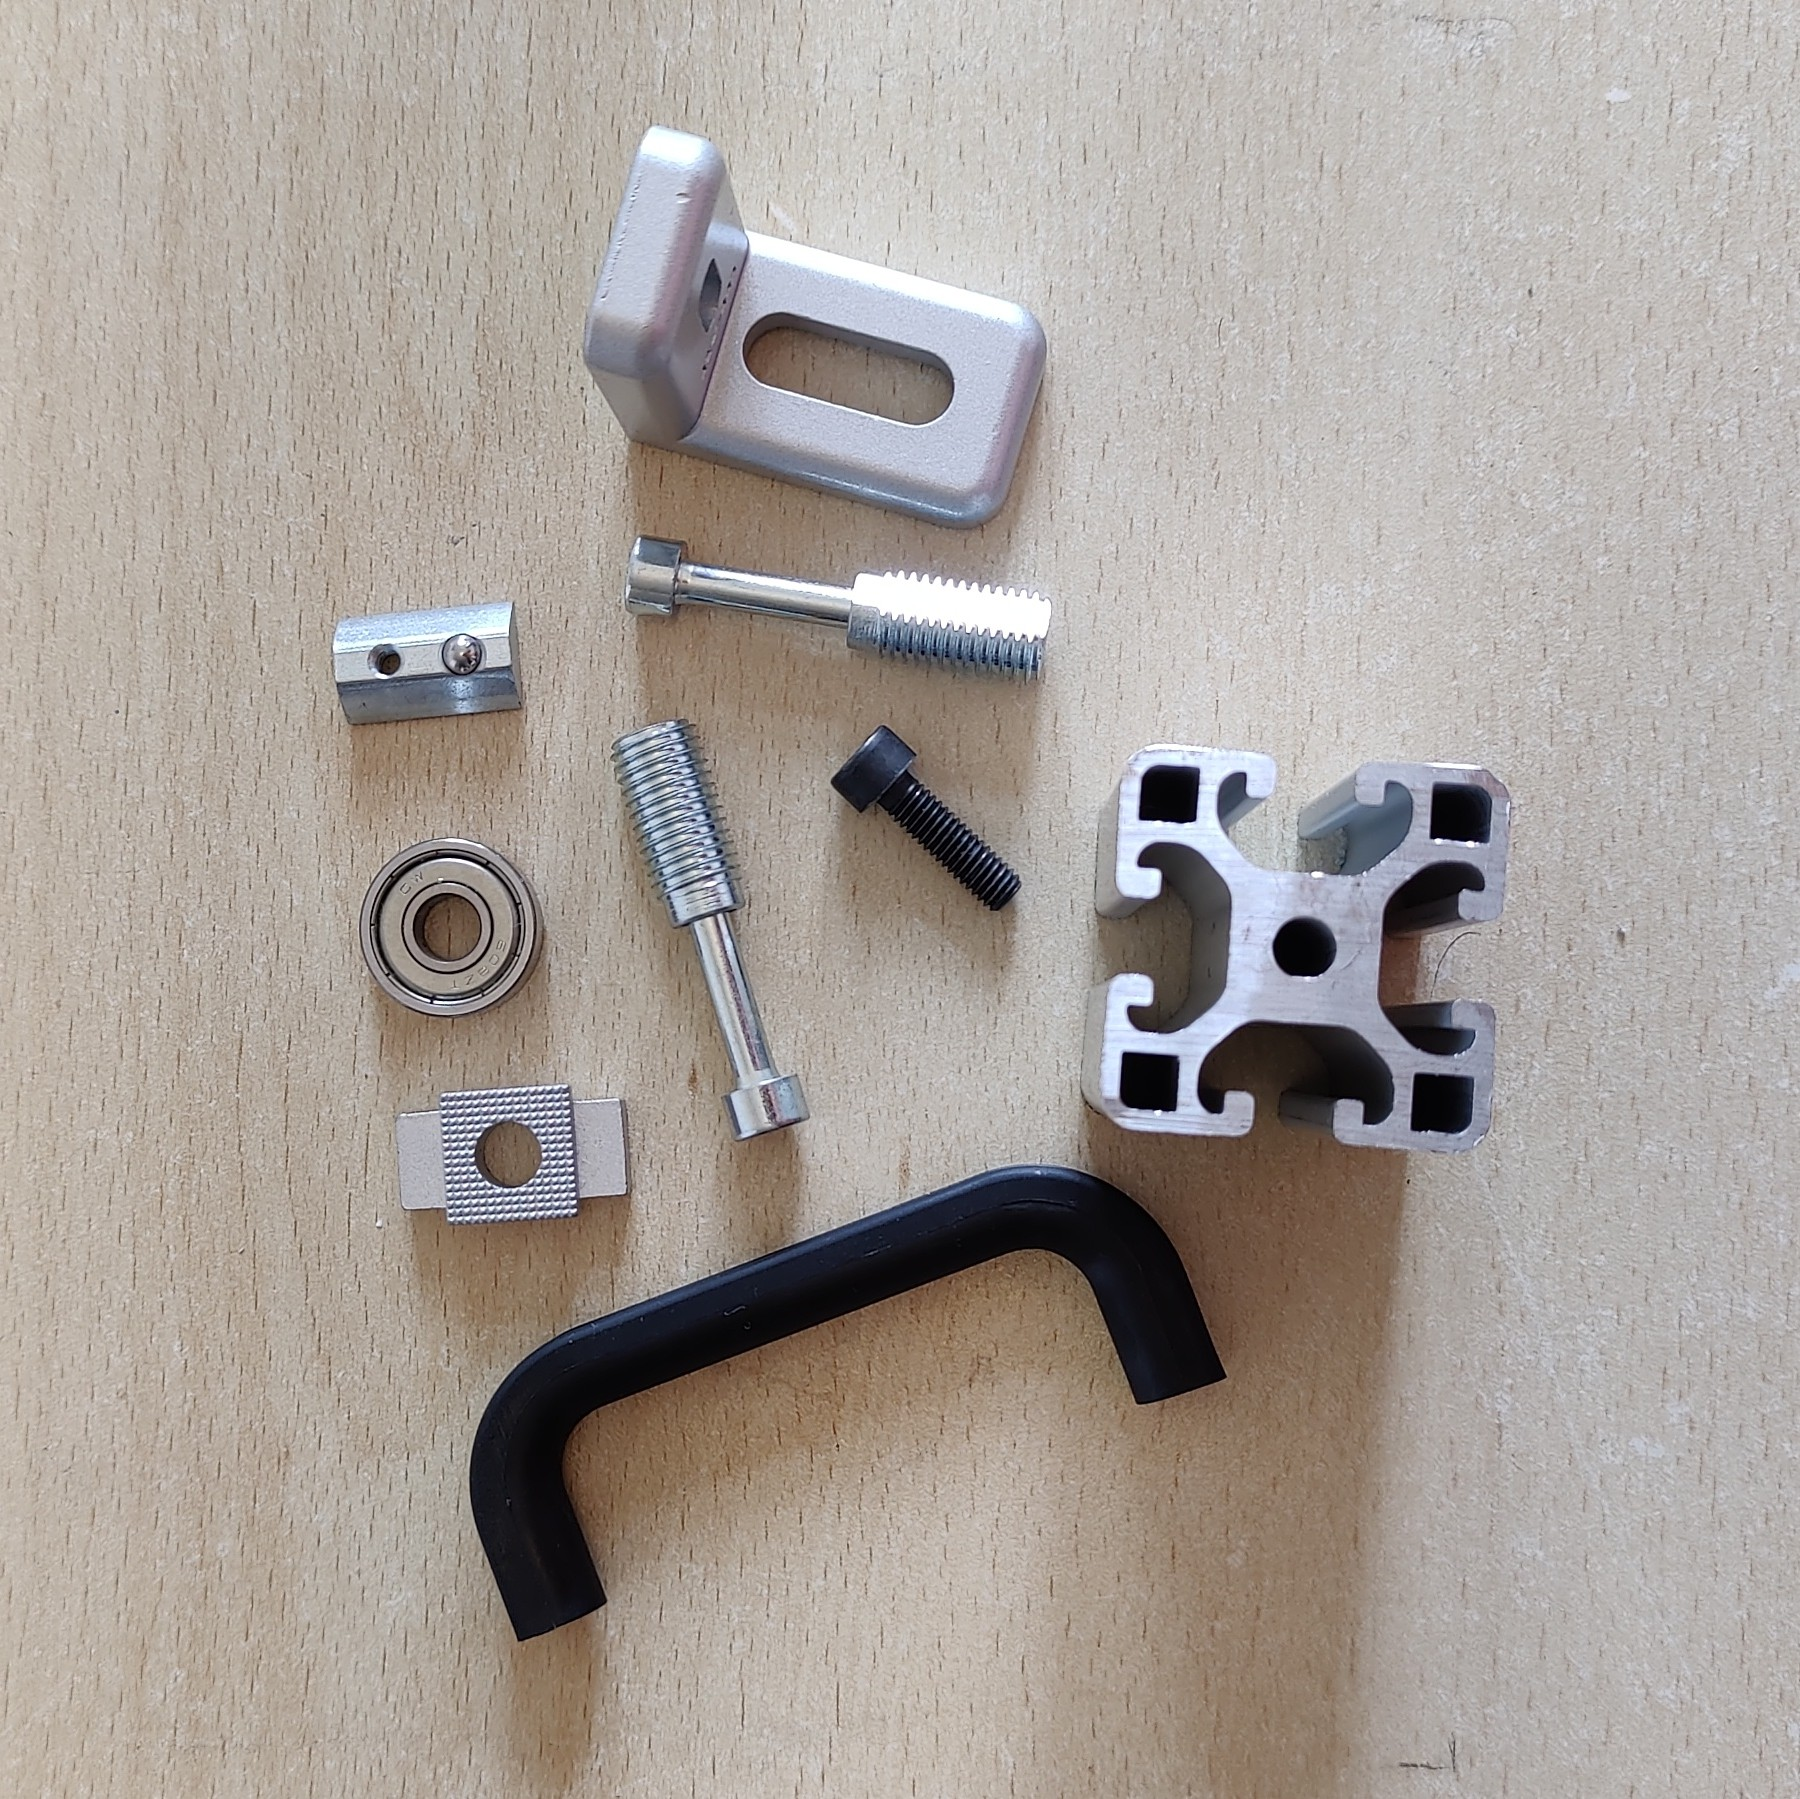Aluminium Extension: (1077, 746, 1513, 1153)
Ball Bearing: (357, 834, 547, 1020)
Multiwinkel: (581, 124, 1051, 534)
Pull Handle: (466, 1163, 1229, 1646)
Shoulder Socket Head Cap Screw: (609, 713, 812, 1143), (623, 534, 1054, 685)
Socket Head Cap Screw: (827, 718, 1021, 913)
T Nut Square: (392, 1086, 636, 1227)
T Spring Nut: (333, 600, 527, 730)
